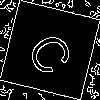C: (25, 25, 83, 79)
